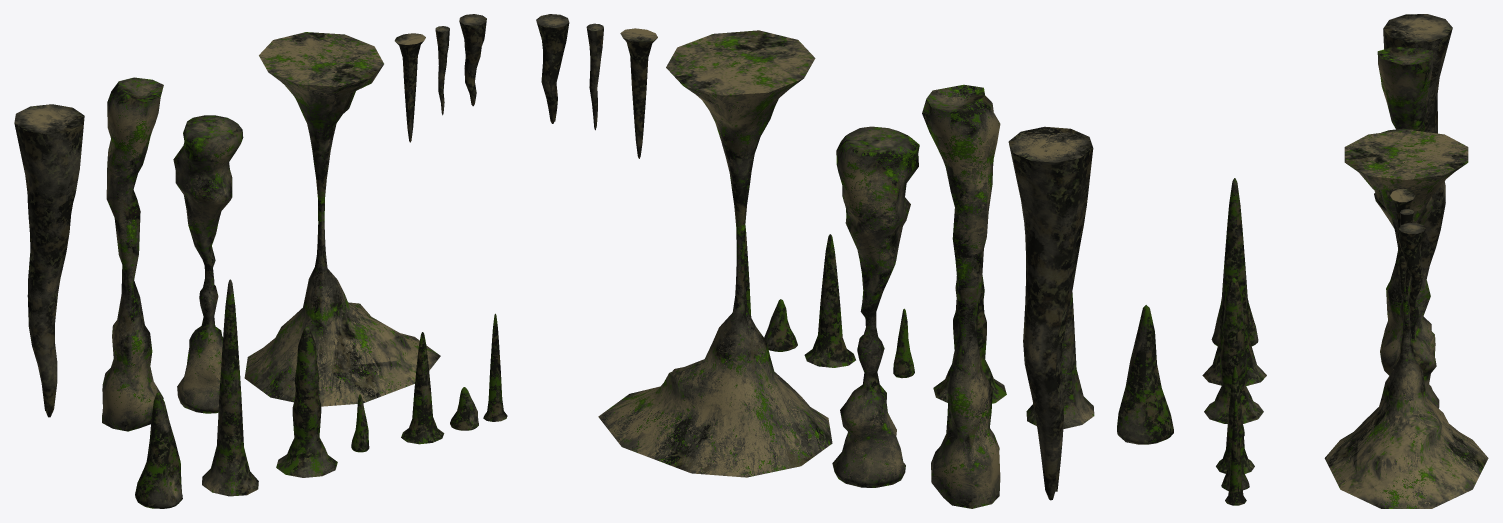
The picture shows the model from 3 angles, left to right: view 1: azimuth 30°, elevation 25°; view 2: azimuth 150°, elevation 25°; view 3: azimuth 270°, elevation 25°; orthographic projection. The views are drawn at different scales.
Visible parts, largest first — view 1: collum_3, collum_1, stalacite_4, collum_2, stalagmite_6, stalagmite_8, stalagmite_4, stalagmite_5, stalacite_3, stalacite_1, stalagmite_7, stalagmite_1 (+2 smaller); view 2: collum_3, collum_1, stalacite_4, collum_2, stalagmite_4, stalagmite_5, stalagmite_6, stalacite_3, stalacite_1, stalagmite_8, stalagmite_1, stalacite_2 (+1 smaller); view 3: collum_3, collum_1, stalacite_4, stalagmite_8, stalagmite_6, collum_2, stalacite_3, stalagmite_5, stalagmite_7, stalacite_1, stalagmite_4.
Part boxes in pixels (x1,y1,x2,y2): collum_3: (244,32,440,406); collum_1: (102,77,163,431); stalacite_4: (14,104,84,417); collum_2: (173,115,243,413); stalagmite_6: (202,279,258,496); stalagmite_8: (276,327,337,477); stalagmite_4: (135,392,182,508); stalagmite_5: (401,332,444,444); stalacite_3: (459,14,486,106); stalacite_1: (394,33,425,142); stalagmite_7: (483,313,507,421); stalagmite_1: (450,387,478,430); collum_3: (598,30,832,477); collum_1: (922,84,1000,508); stalacite_4: (1008,126,1093,500); collum_2: (832,126,919,487); stalagmite_4: (1117,305,1173,444); stalagmite_5: (804,234,855,367); stalagmite_6: (1026,292,1094,428); stalacite_3: (536,14,569,123); stalacite_1: (620,28,657,158); stalagmite_8: (933,275,1006,403); stalagmite_1: (764,299,797,351); stalacite_2: (586,23,603,130); collum_3: (1324,129,1488,508); collum_1: (1377,47,1435,375); stalacite_4: (1383,14,1452,279); stalagmite_8: (1204,277,1263,423); stalagmite_6: (1202,178,1266,385); collum_2: (1374,128,1439,408); stalacite_3: (1398,223,1425,312); stalagmite_5: (1216,366,1254,473); stalagmite_7: (1225,400,1246,505); stalacite_1: (1390,189,1415,295); stalagmite_4: (1211,297,1258,346).
Bounding box in the file's own units: 649 × 444 × 358.
14 materials, 14 textured.
